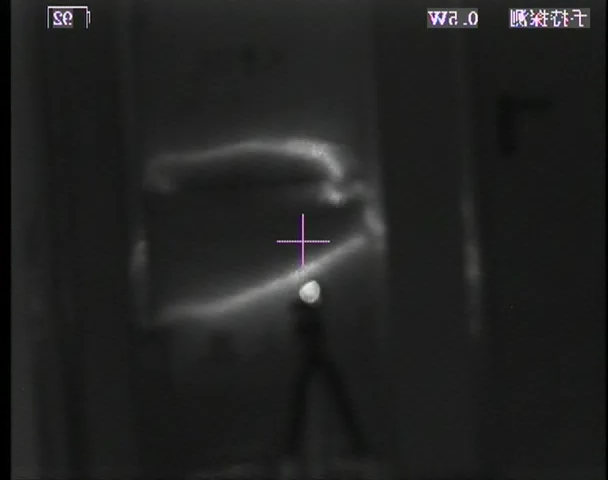my: (297, 279, 321, 303)
